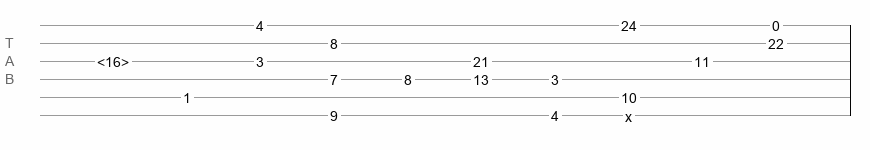0: (772, 18, 780, 28)
1: (183, 90, 191, 100)
10: (621, 90, 637, 100)
11: (694, 54, 710, 64)
13: (473, 72, 489, 82)
21: (473, 54, 489, 64)
22: (768, 36, 784, 46)
24: (621, 18, 637, 28)
3: (256, 54, 264, 64), (551, 72, 559, 82)
4: (256, 18, 264, 28), (551, 108, 559, 118)
7: (330, 72, 338, 82)
8: (330, 36, 338, 46), (404, 72, 412, 82)
9: (330, 108, 338, 118)
harmonic: (97, 54, 129, 64)
x: (625, 109, 632, 117)
